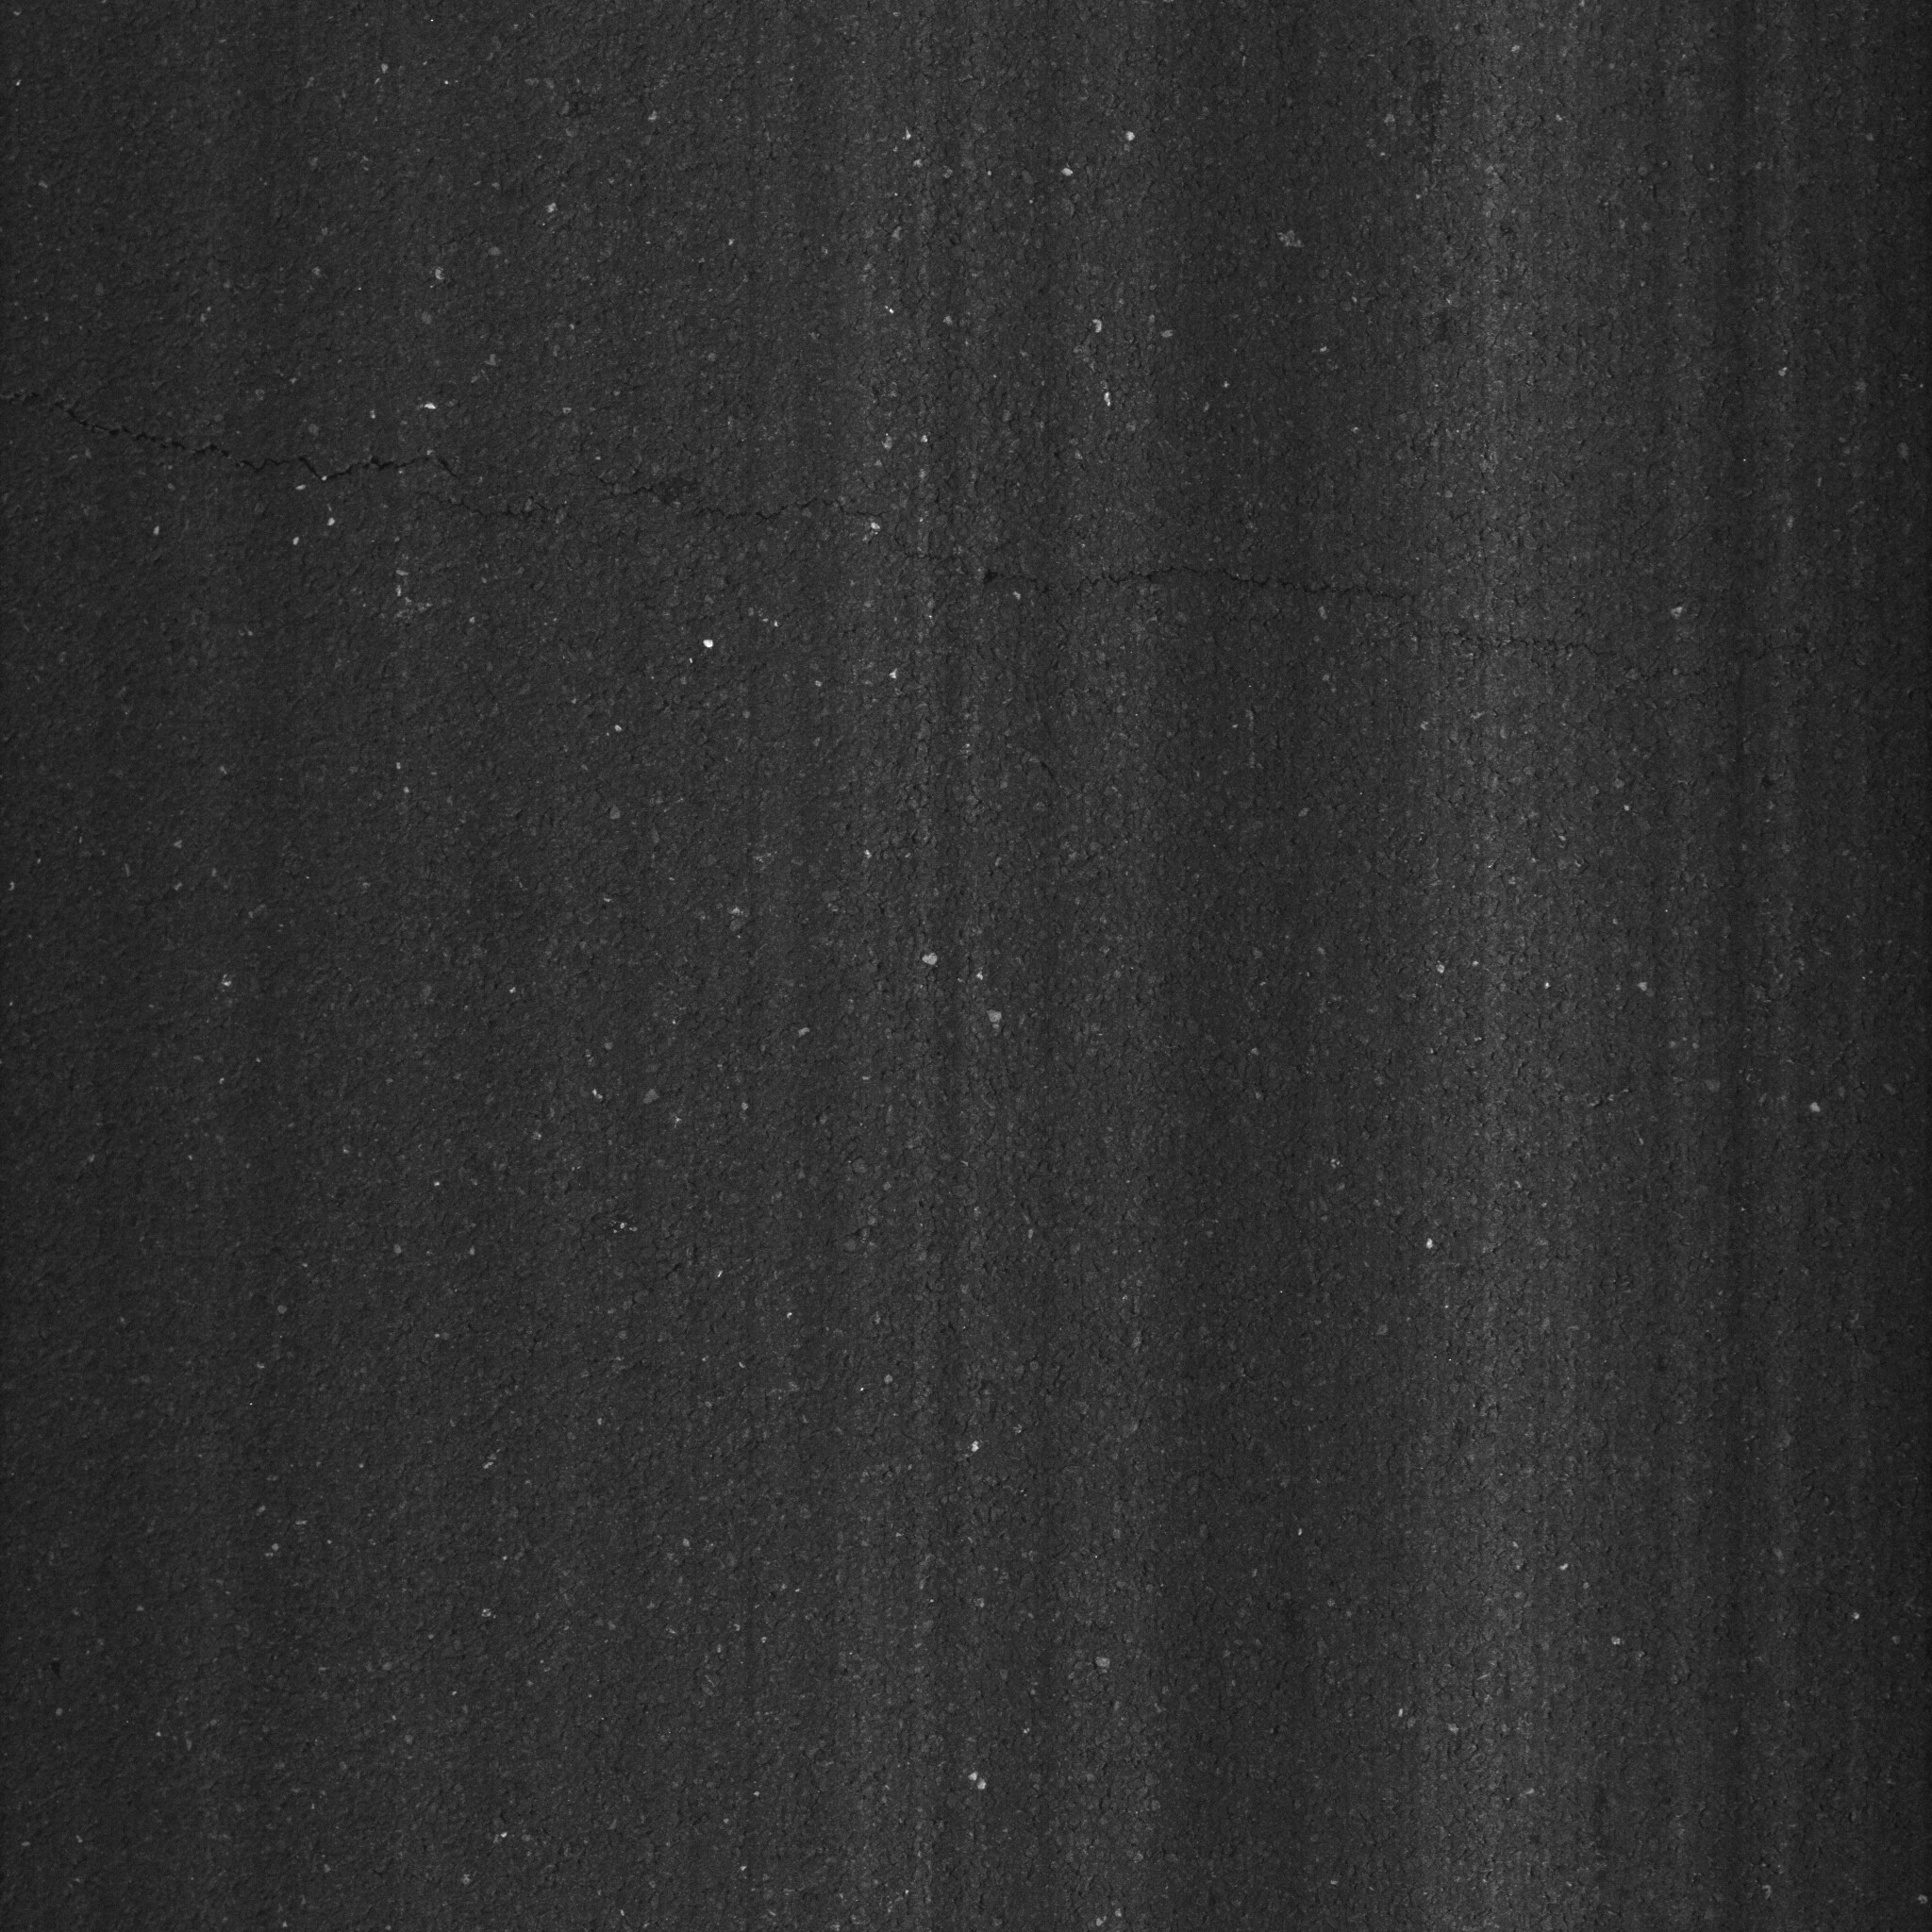transeverse: (4, 377, 1744, 699)
